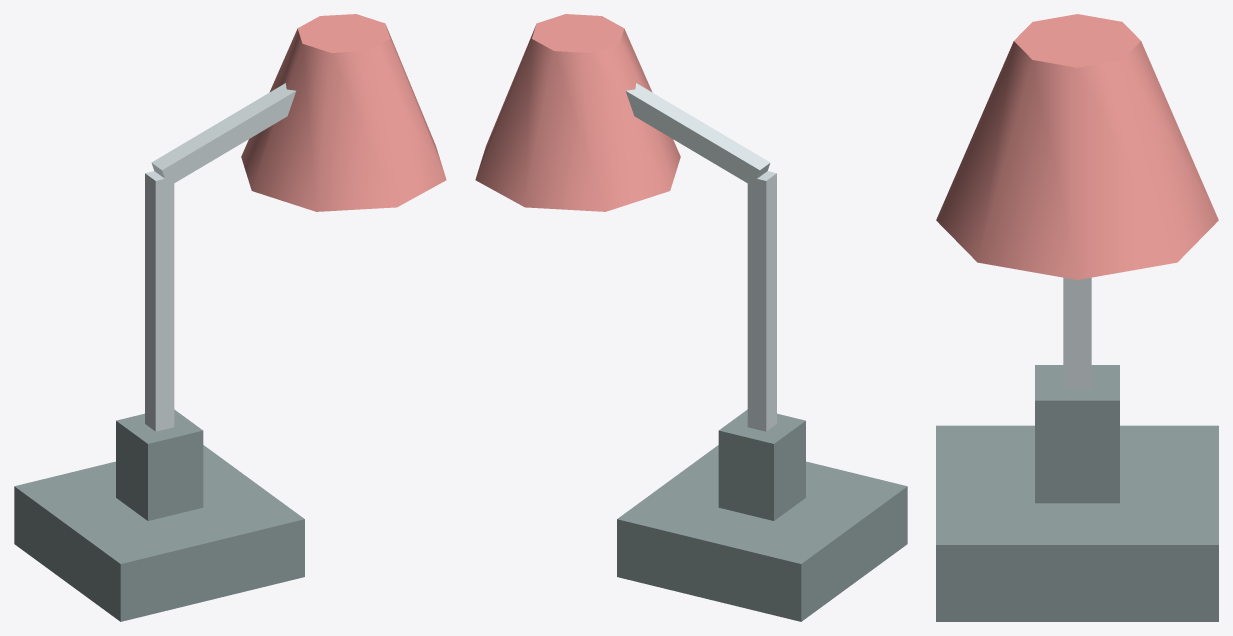
The model's file is lampClamp.glb.
The picture shows the model from 3 angles, left to right: view 1: azimuth 30°, elevation 25°; view 2: azimuth 150°, elevation 25°; view 3: azimuth 270°, elevation 25°; orthographic projection. The views are drawn at different scales.
Visible parts, largest first — view 1: lampClamp; view 2: lampClamp; view 3: lampClamp.
Boxes of the visible parts, x1,y1,x2,y2 form: lampClamp: [14, 14, 446, 621]; lampClamp: [475, 14, 907, 621]; lampClamp: [936, 14, 1218, 621].
Size of the model in its own units: 0.2 by 0.25 by 0.1.
